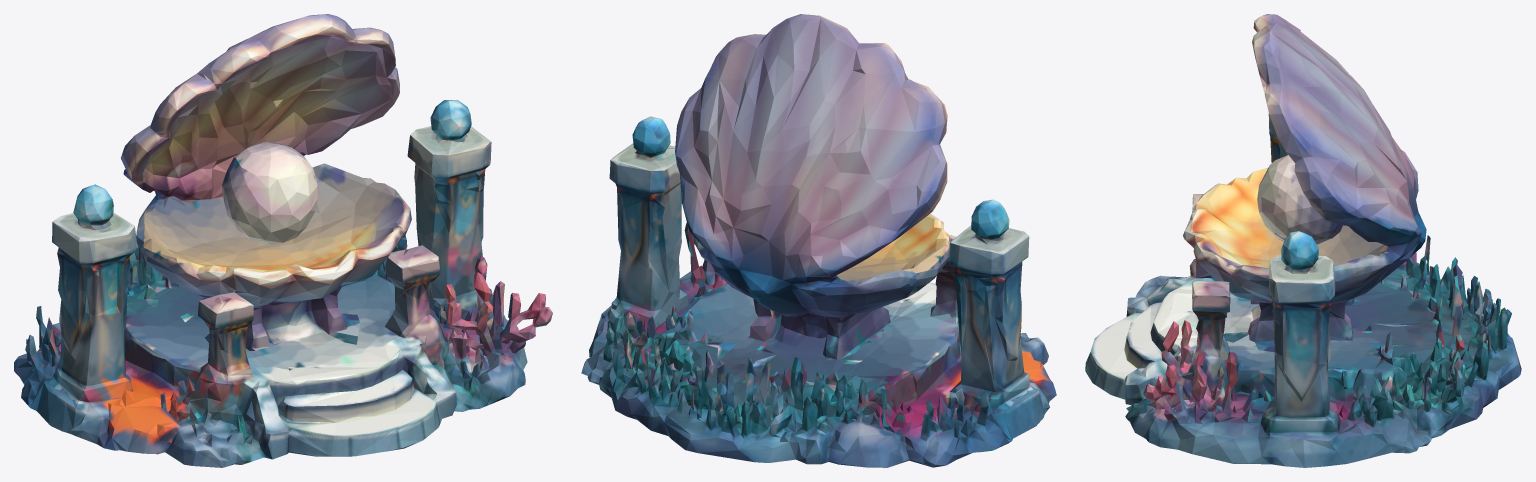
Rendered from sea_pearl_altar_1117.glb.
The picture shows the model from 3 angles, left to right: view 1: azimuth 30°, elevation 25°; view 2: azimuth 150°, elevation 25°; view 3: azimuth 270°, elevation 25°; orthographic projection. The views are drawn at different scales.
Parts seen in each view (by area): view 1: tmpvudlcruj.ply; view 2: tmpvudlcruj.ply; view 3: tmpvudlcruj.ply.
Boxes of the visible parts, x1=… form: tmpvudlcruj.ply: x1=14, y1=14, x2=552, y2=467; tmpvudlcruj.ply: x1=581, y1=14, x2=1056, y2=467; tmpvudlcruj.ply: x1=1085, y1=14, x2=1521, y2=467.
Bounding box in the file's own units: 1.99 × 1.53 × 1.78.
1 material, 1 textured.
